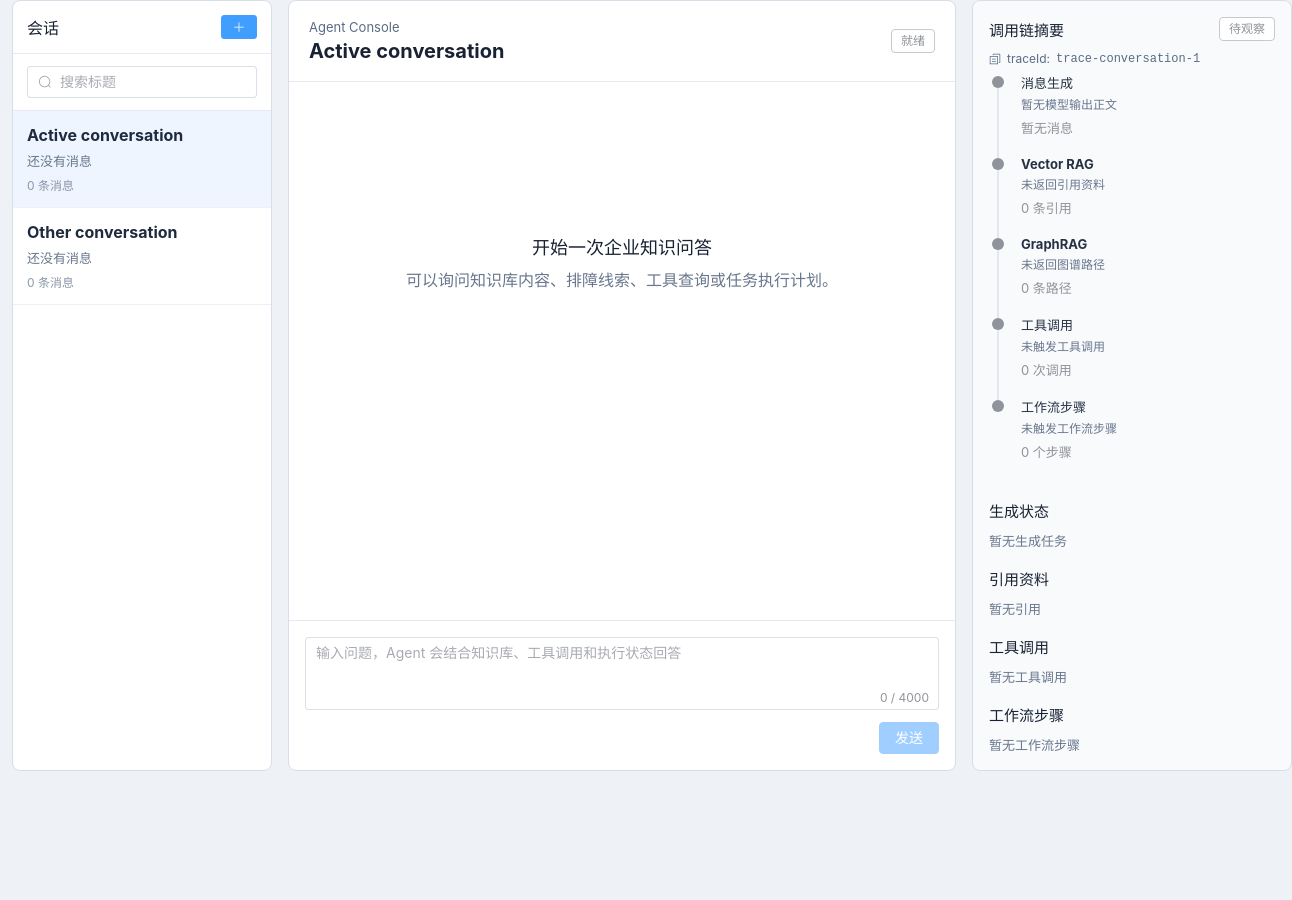
Scenario: ChatWorkspaceView › shows failed status, error message, and trace id for stream timeout events
Expected: the text "Active conversation" is shown, [27,125,183,145]
In the text box with placeholder "输入问题，Agent 会结合知识库、工具调用和执行状态回答": (622, 674) [305,637,939,710], type "Check service status"
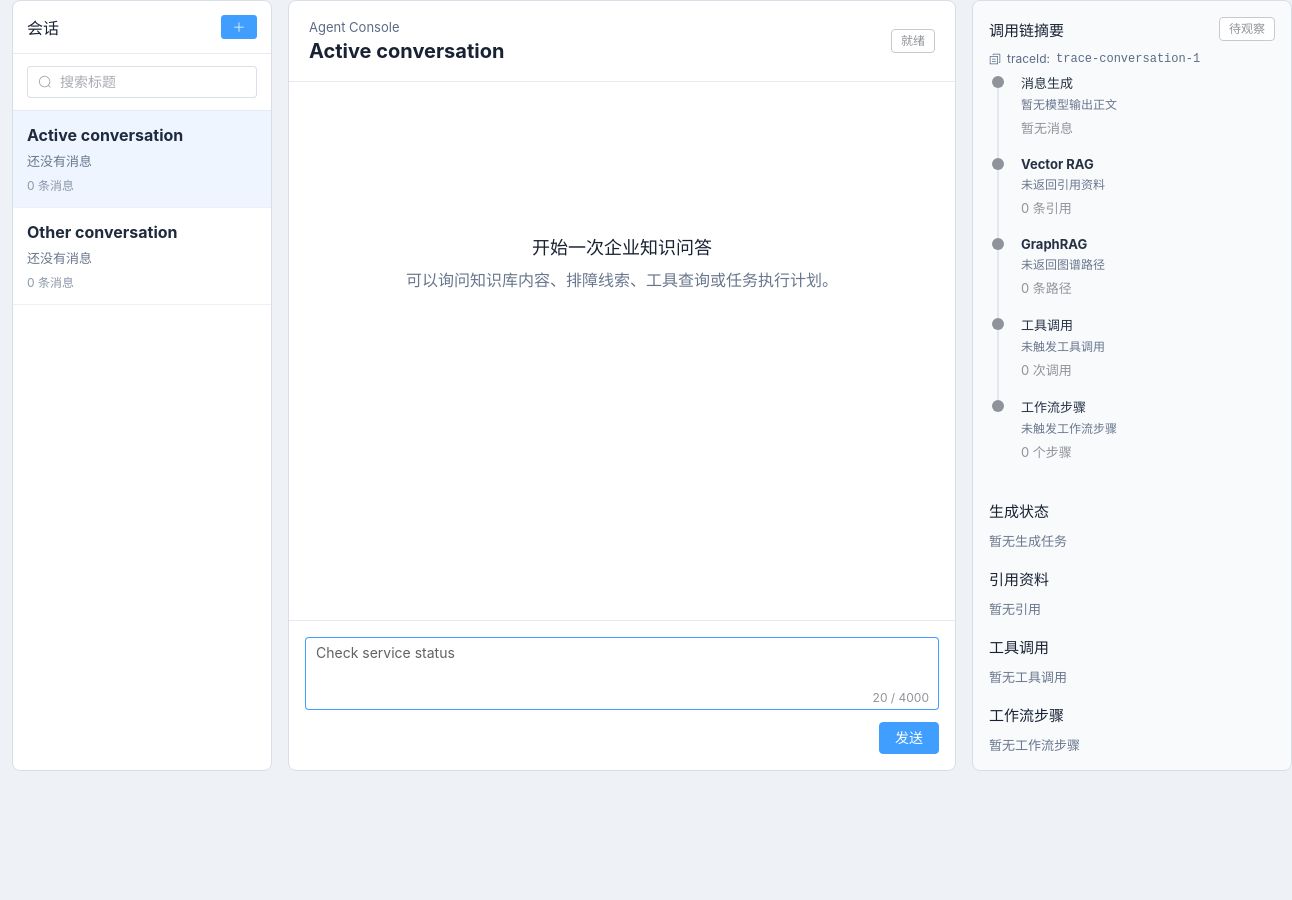
Click the submit button: (909, 738) [879,722,939,754]
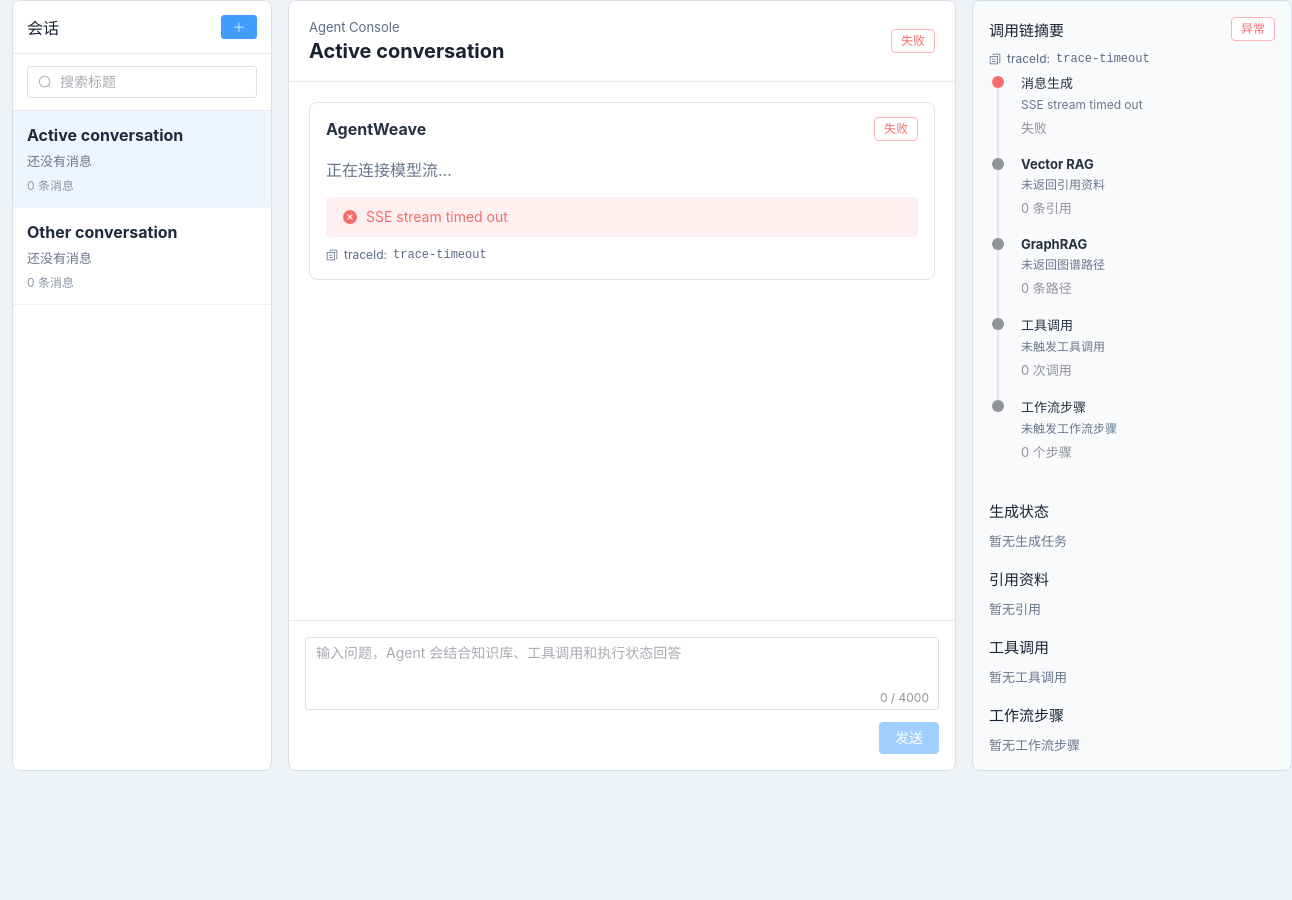
Now the element showing "失败" in the row of "AgentWeave" is shown, box [874,117,918,141]
